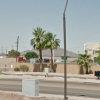Palm tree: (28, 22, 62, 64)
